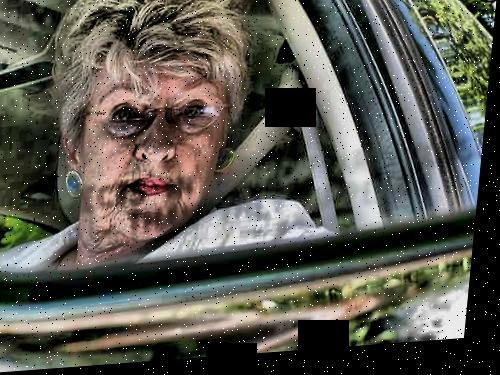seatbelt: (158, 105, 367, 246)
